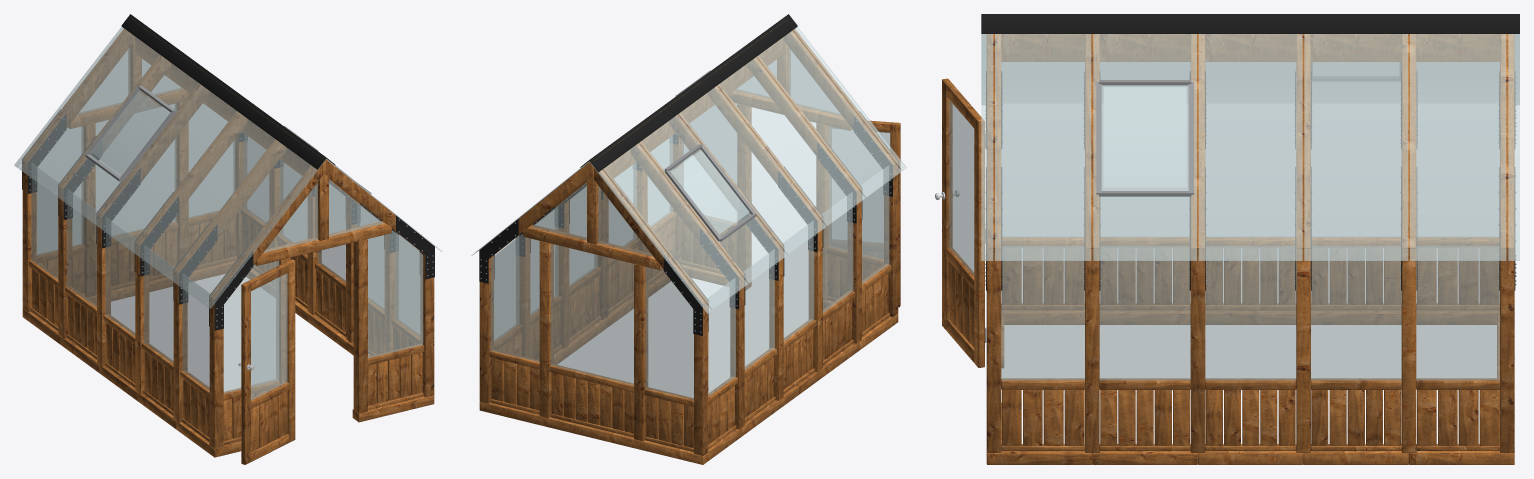
File: nordwood-arrow.glb
3 renders of one model, left to right at view 1: azimuth 30°, elevation 25°; view 2: azimuth 150°, elevation 25°; view 3: azimuth 270°, elevation 25°, orthographic. The views are drawn at different scales.
Visible parts, largest first — view 1: nordwood-arrow; view 2: nordwood-arrow; view 3: nordwood-arrow.
Boxes of the visible parts, <box> form: nordwood-arrow: <box>14,14,442,464</box>; nordwood-arrow: <box>471,14,906,464</box>; nordwood-arrow: <box>935,14,1519,464</box>.
Bounding box in the file's own units: 2.53 × 2.87 × 4.02.
Materials: 7 (3 with a texture image).
